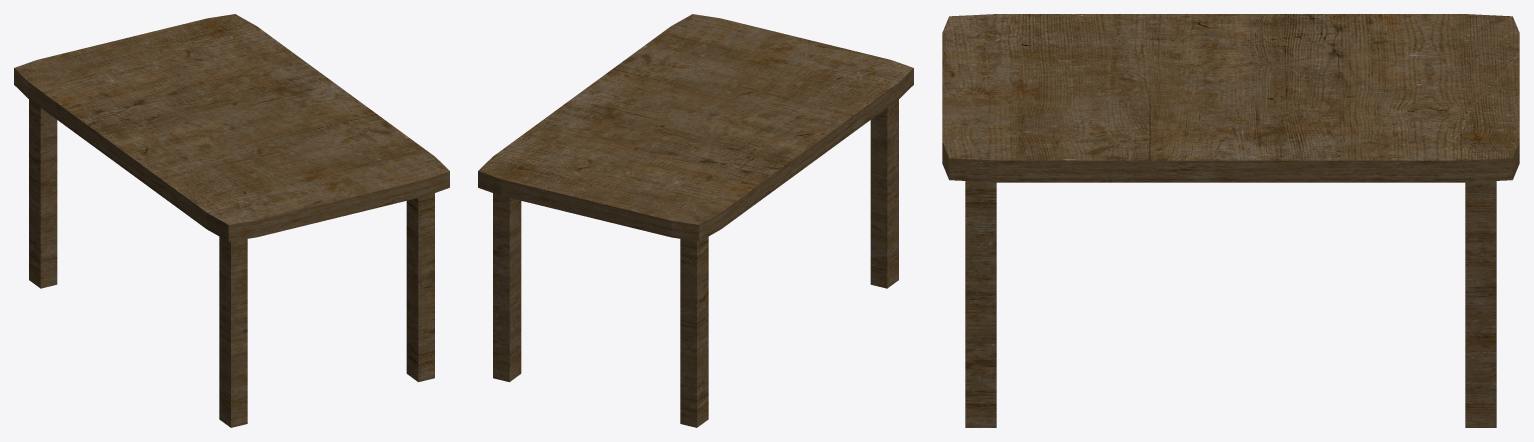
Rendered from MESA.fbx.
3 renders of one model, left to right at view 1: azimuth 30°, elevation 25°; view 2: azimuth 150°, elevation 25°; view 3: azimuth 270°, elevation 25°, orthographic. The views are drawn at different scales.
Parts seen in each view (by area): view 1: Cube; view 2: Cube; view 3: Cube.
Part boxes in pixels (left/top/right/bottom): Cube: left=14, top=14, right=449, bottom=427; Cube: left=478, top=14, right=913, bottom=427; Cube: left=942, top=14, right=1519, bottom=427.
Bounding box in the file's own units: 798 × 699 × 1329.
